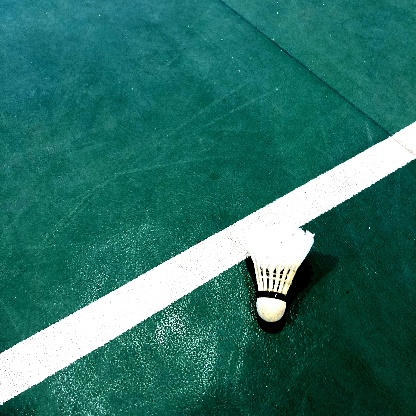ball_single: (245, 220, 314, 322)
